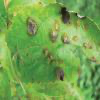Apple Scab Leaf: (4, 2, 99, 96)
